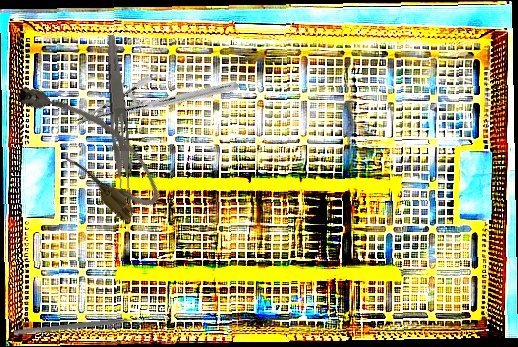Cannula: (6, 60, 173, 229)
Dressing Forceps: (99, 33, 137, 210)
Needle Holder: (73, 22, 240, 185)
Spatula Surgical: (13, 314, 146, 341)
